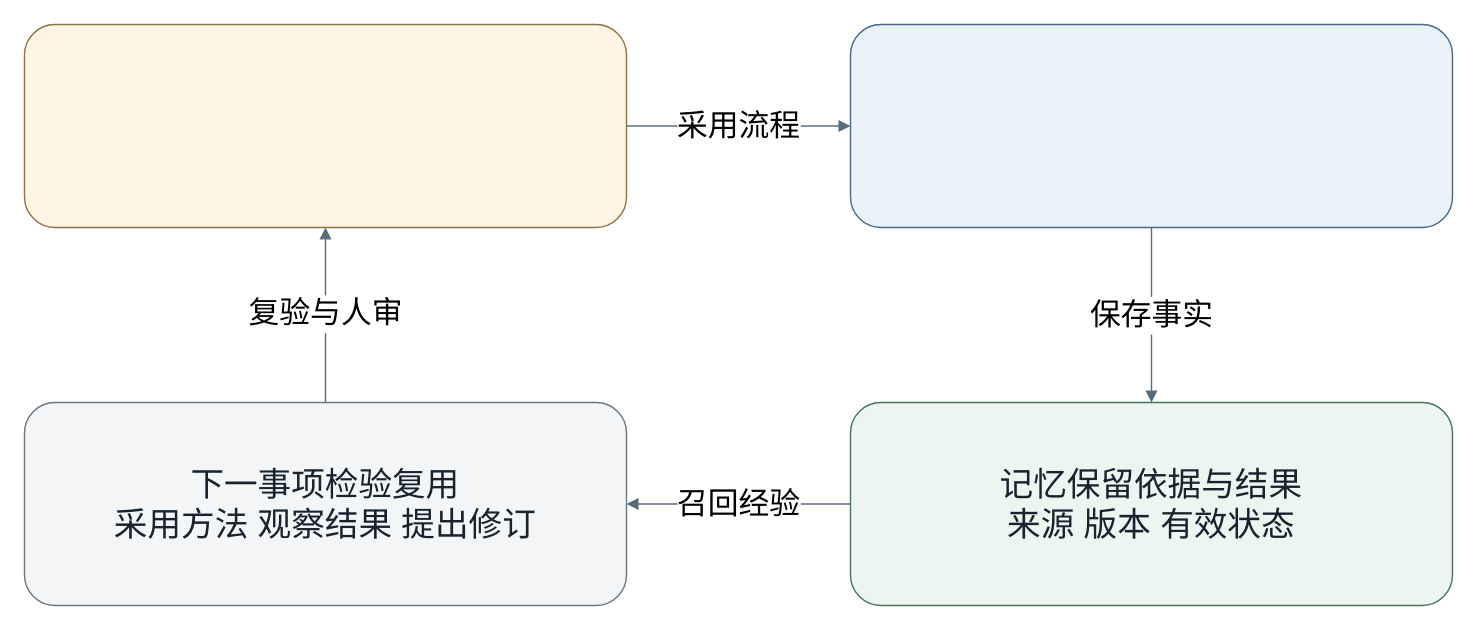
This 1477x630 diagram has some shape labels left out. The shapes that lost their labels are listed below. From the top down, each one's centre as x and y in pixels, then its label:
pixel 324 125: 具名确认后的流程版本 步骤 检查 适用条件
pixel 1150 125: Harness 组织本次执行 调用 复验 失败处理
